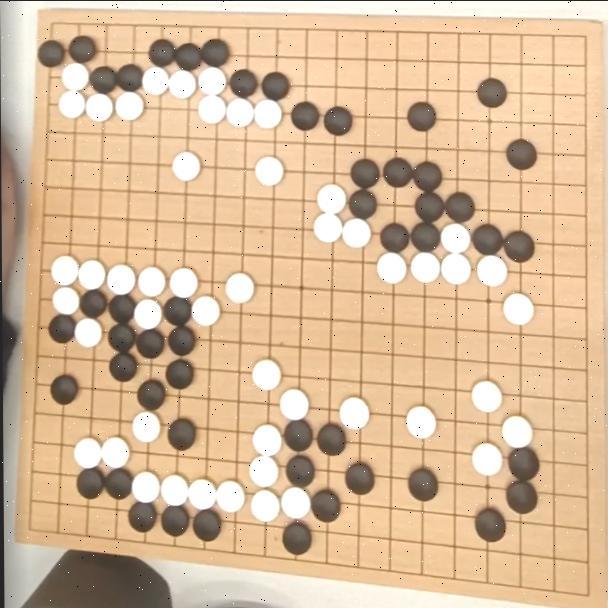corners: (556, 20, 602, 58), (37, 3, 77, 42), (561, 572, 604, 604), (10, 511, 53, 541)
